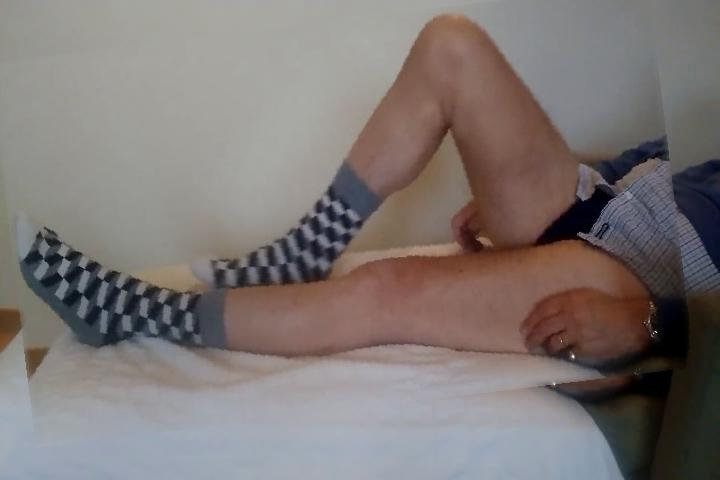lower_body: (1, 2, 685, 429)
